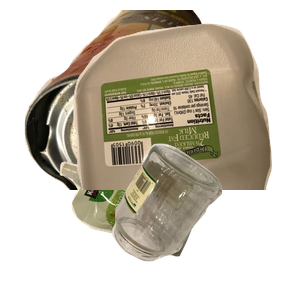glass: (110, 141, 300, 300)
metal: (22, 10, 251, 190)
plastic: (71, 21, 300, 201)
trash: (57, 137, 257, 300)
